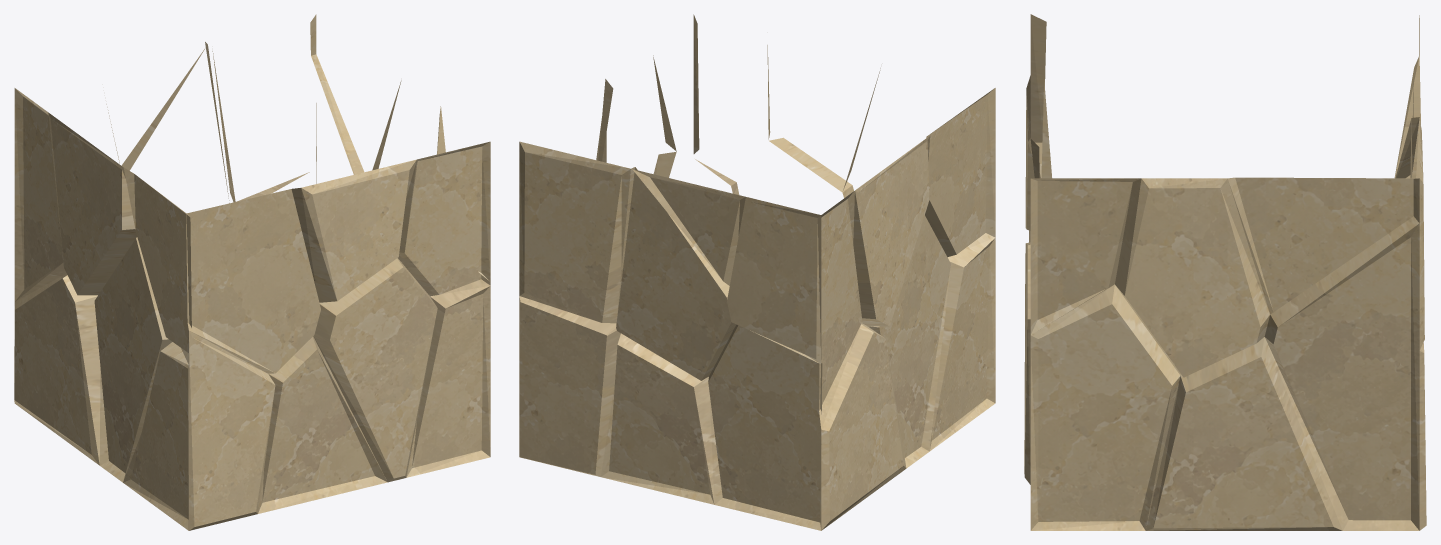
File: ground_rock_05.gltf
3 renders of one model, left to right at view 1: azimuth 30°, elevation 25°; view 2: azimuth 150°, elevation 25°; view 3: azimuth 270°, elevation 25°, orthographic. The views are drawn at different scales.
Parts seen in each view (by area): view 1: ground_rock_05; view 2: ground_rock_05; view 3: ground_rock_05.
Boxes of the visible parts, x1,y1,x2,y2 form: ground_rock_05: (14, 14, 490, 530); ground_rock_05: (519, 14, 995, 530); ground_rock_05: (1024, 14, 1426, 530).
Bounding box in the file's own units: 1.03 × 1 × 1.03.
27 materials, 27 textured.
